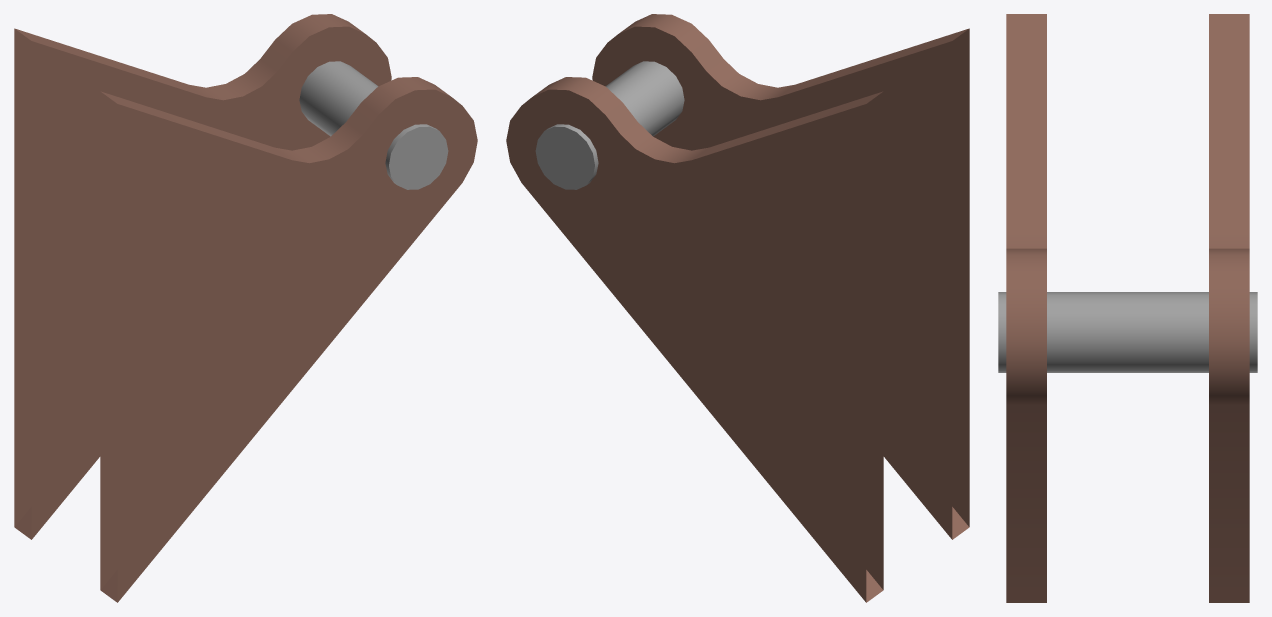
Rendered from Dragonfly_Gears_Cog_Bracket.fbx.
3 renders of one model, left to right at view 1: azimuth 30°, elevation 25°; view 2: azimuth 150°, elevation 25°; view 3: azimuth 270°, elevation 25°, orthographic. The views are drawn at different scales.
Parts seen in each view (by area): view 1: Cog_Bracket; view 2: Cog_Bracket; view 3: Cog_Bracket.
Part boxes in pixels (x1,y1,x2,y2): Cog_Bracket: (14,14,477,602); Cog_Bracket: (506,14,969,602); Cog_Bracket: (998,14,1257,602).
Bounding box in the file's own units: 12.1 × 16.02 × 6.4.
